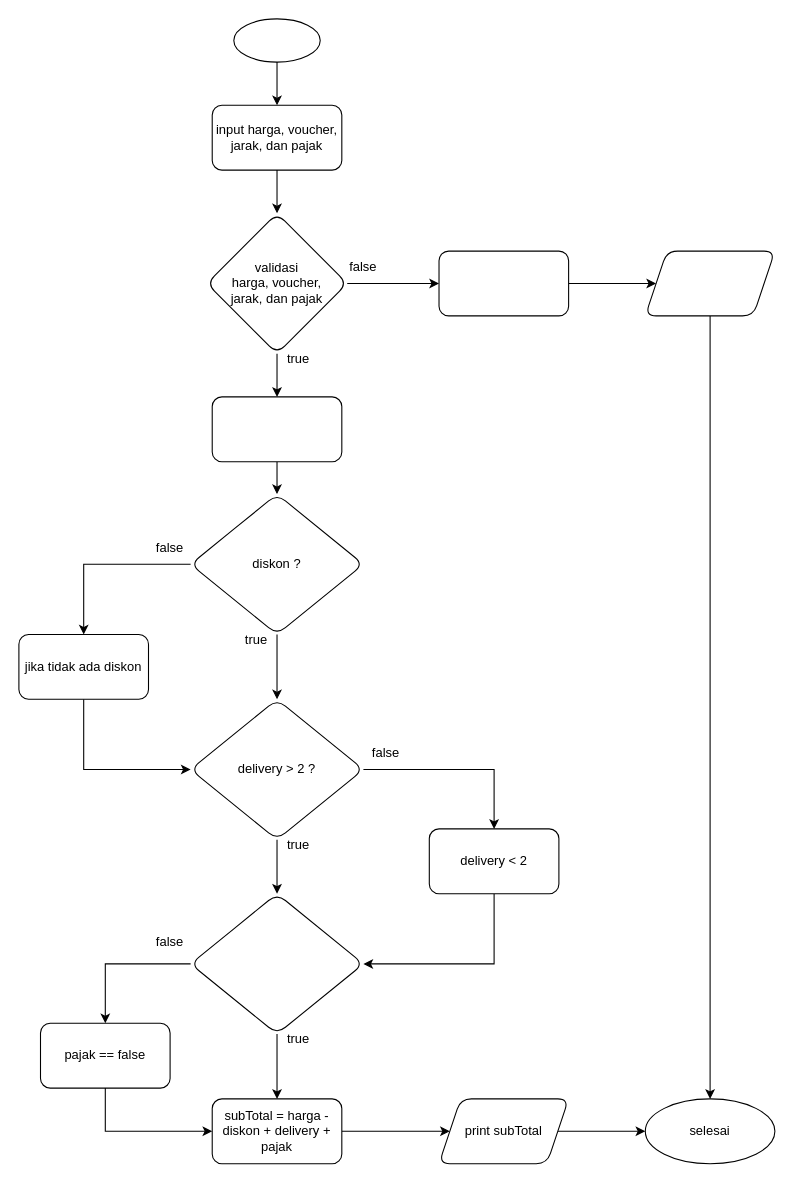
The diagram is 794 pixels wide and 1183 high, and some of its shapes have lost their labels. The box of each missing label's shape, as (x1, y1, x2, y2) in pixels:
buat variabel diskon = '' delivery = '5000' pajak ='': (211, 396, 342, 462)
input harus sesuai: (438, 250, 569, 316)
mulai: (233, 18, 320, 62)
pajak = 5% pajak == true ?: (190, 893, 363, 1034)
print validasi: (644, 250, 775, 316)
